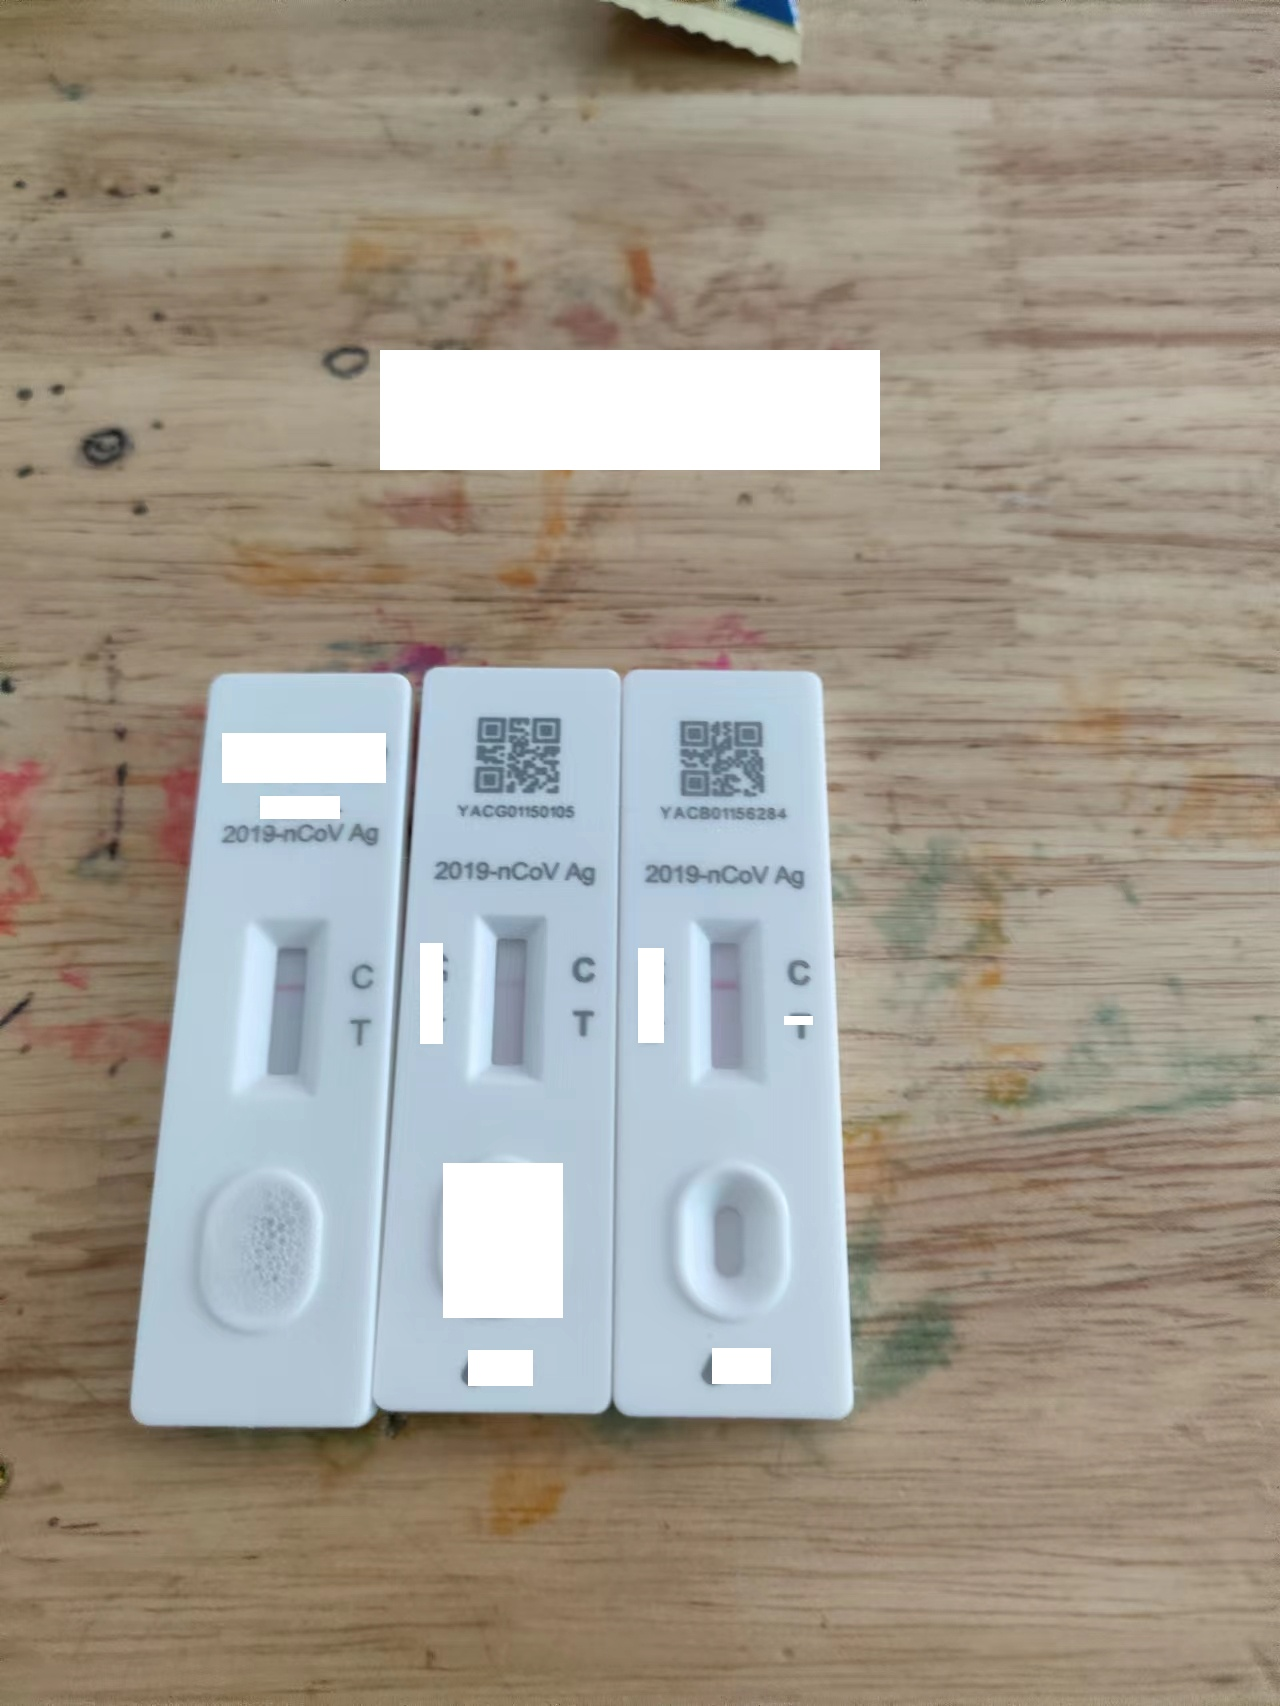negative: (243, 917, 327, 1088), (472, 911, 550, 1085), (692, 913, 762, 1084)
